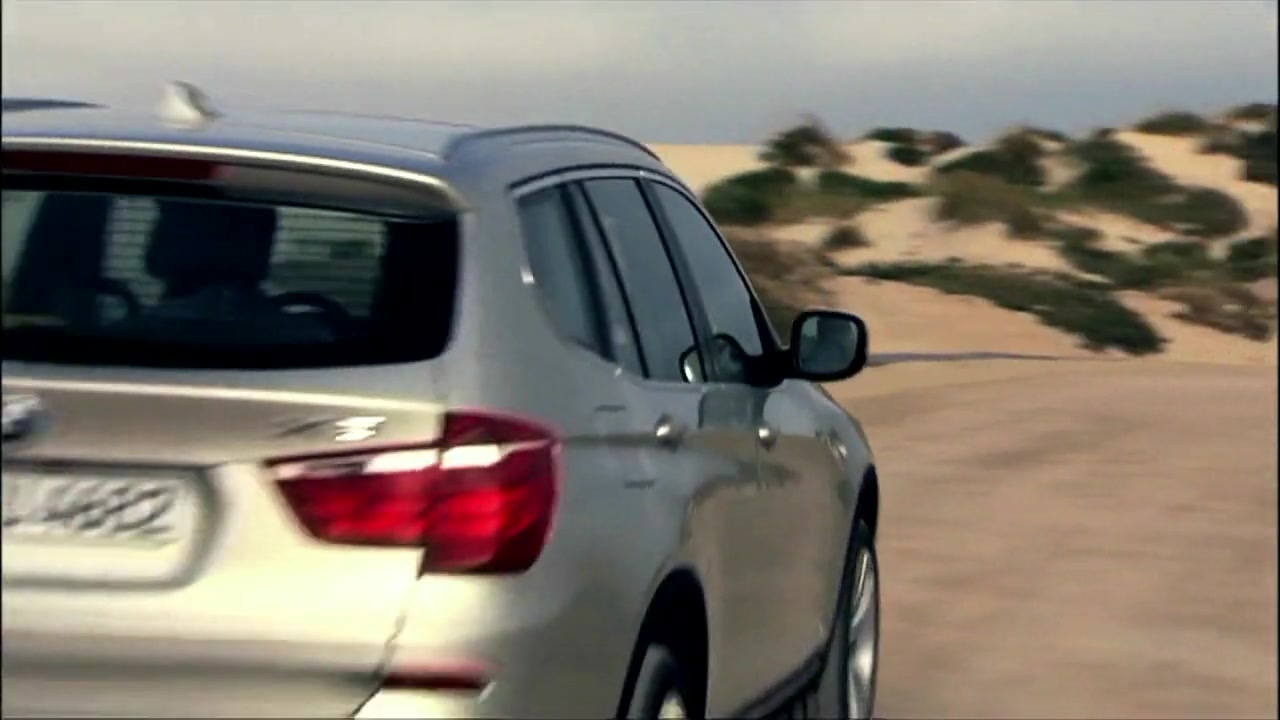car: (3, 78, 885, 720)
